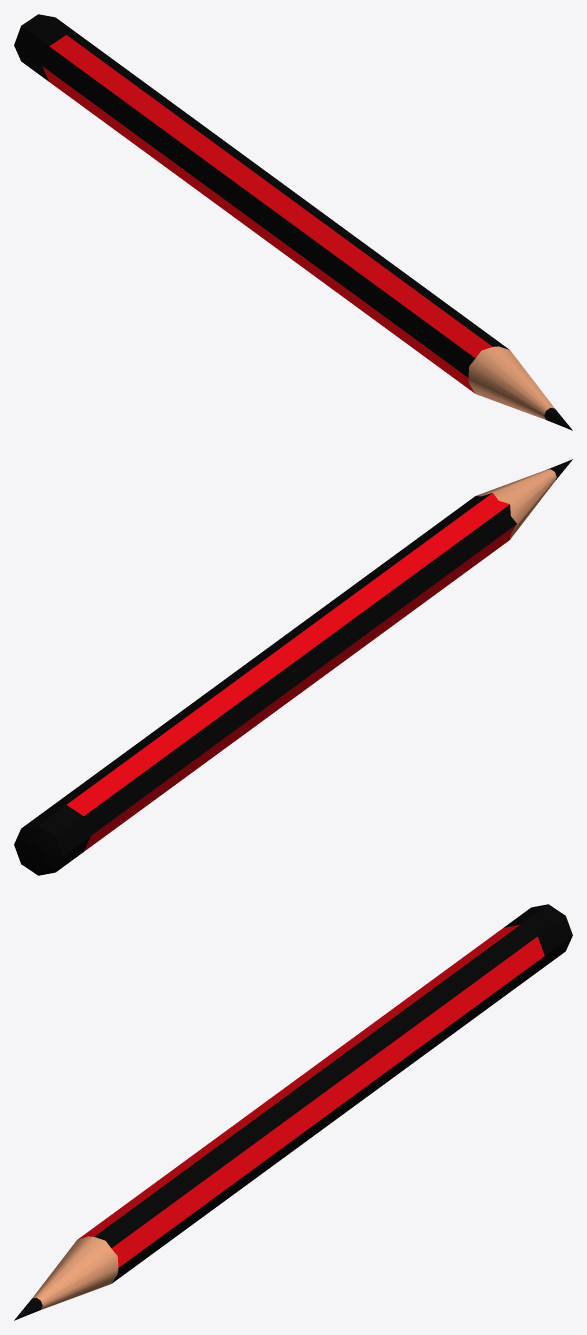
Rendered from Pencil.fbx.
3 views of the same model, one above another, from view 1: azimuth 30°, elevation 25°; view 2: azimuth 150°, elevation 25°; view 3: azimuth 330°, elevation 25° (orthographic).
Visible parts, largest first — view 1: Pencil; view 2: Pencil; view 3: Pencil.
Part boxes in pixels (box(x1,y1,x2,y2)): Pencil: box(14, 14, 572, 430); Pencil: box(14, 459, 572, 875); Pencil: box(14, 904, 572, 1320).
Size of the model in its own units: 0.984 by 0.971 by 18.78.
